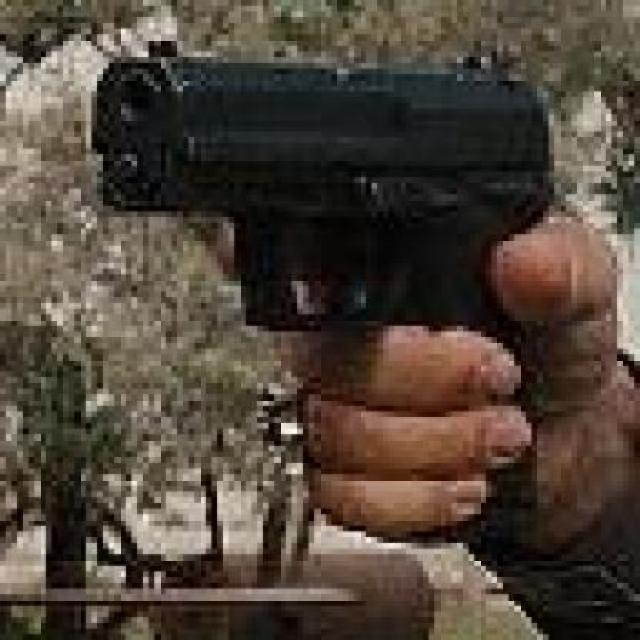rifle: (90, 47, 552, 330)
